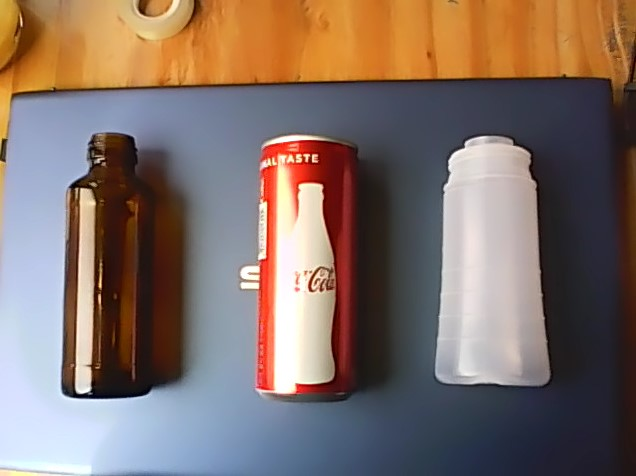Can: (250, 132, 363, 408)
Glass: (56, 127, 156, 406)
Plastic: (429, 130, 556, 392)
